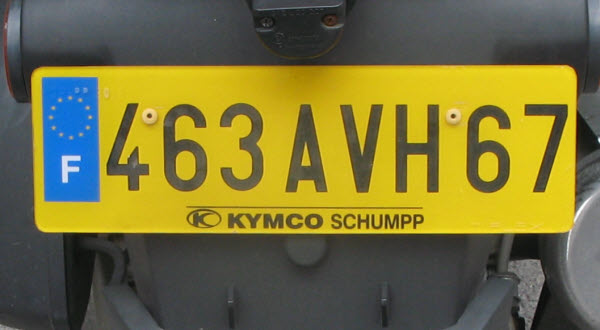license_plate: (30, 65, 579, 231)
